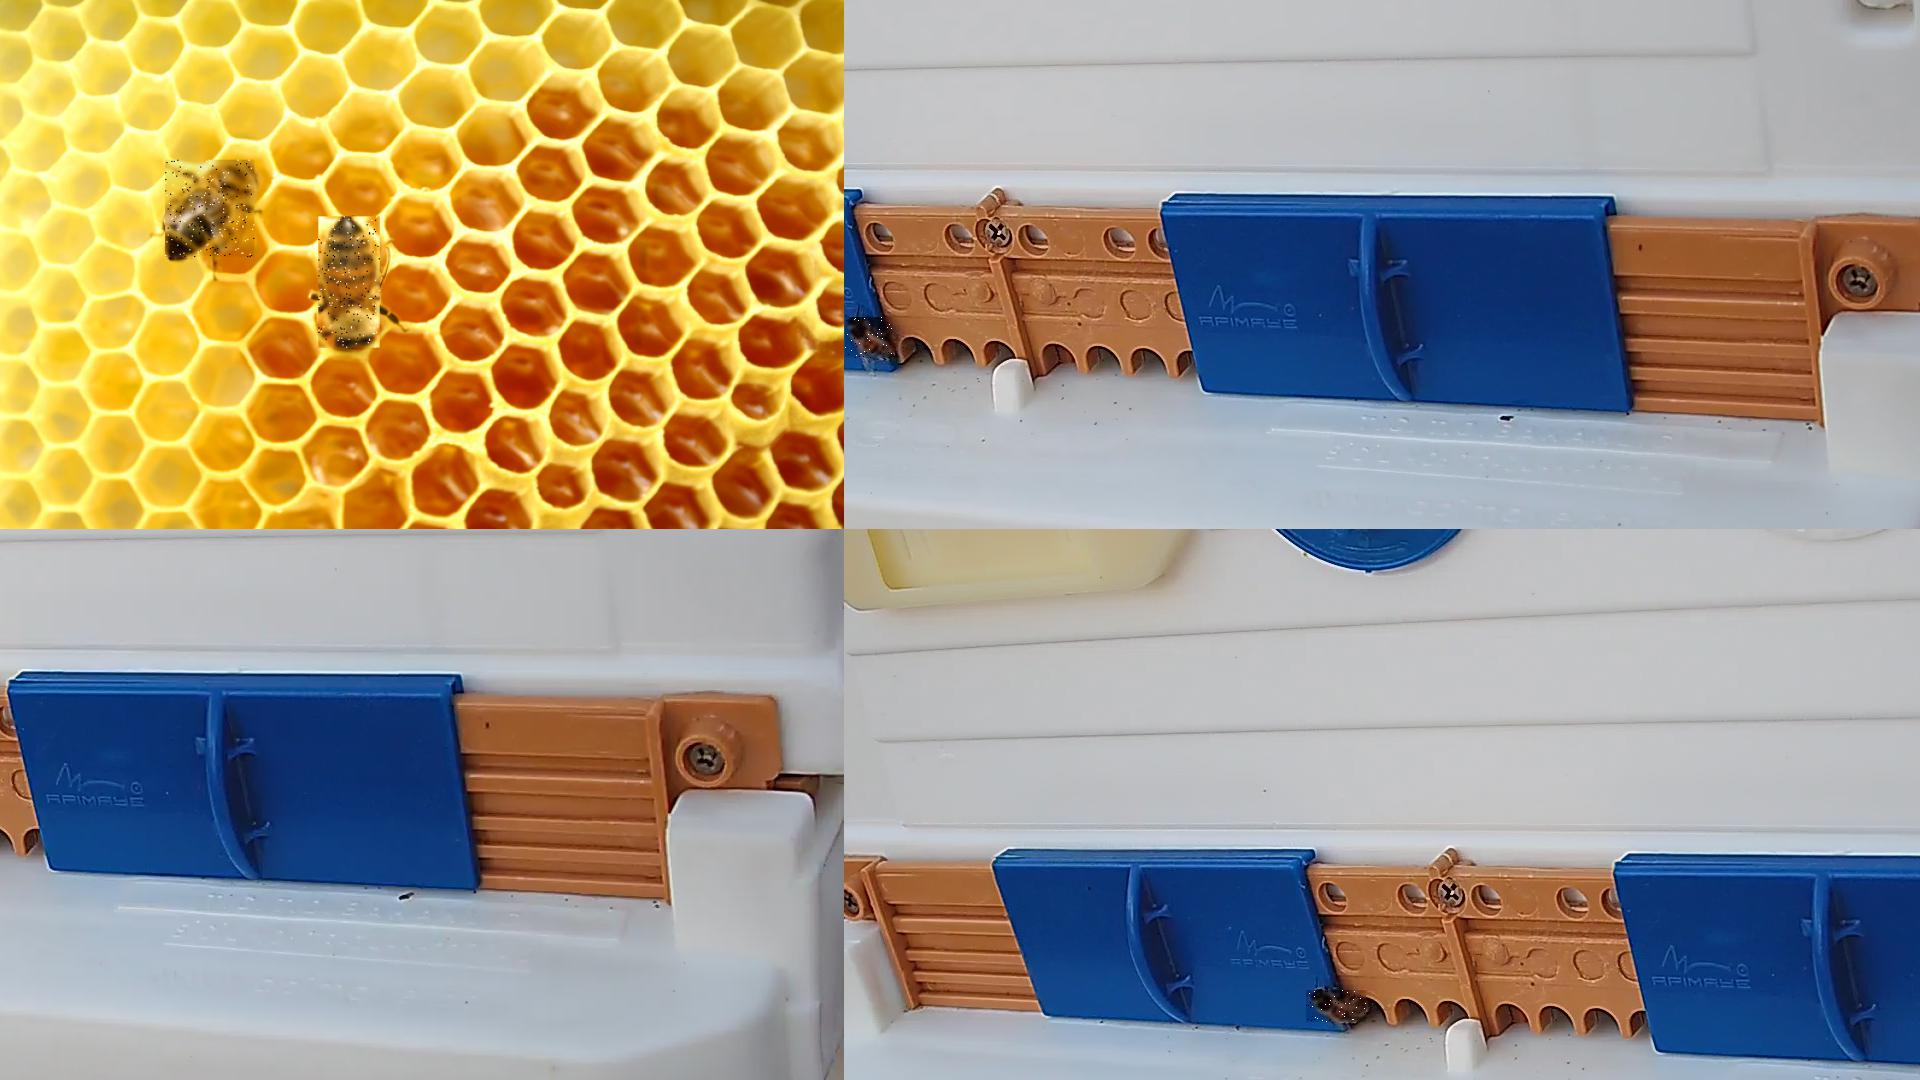bee: (165, 161, 256, 260), (319, 216, 381, 348), (847, 318, 895, 361), (1307, 990, 1367, 1023)
